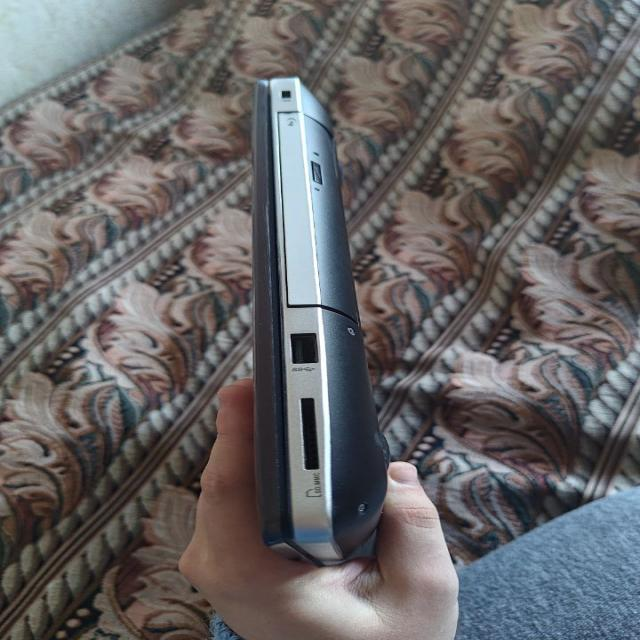lock: (268, 104, 359, 313)
